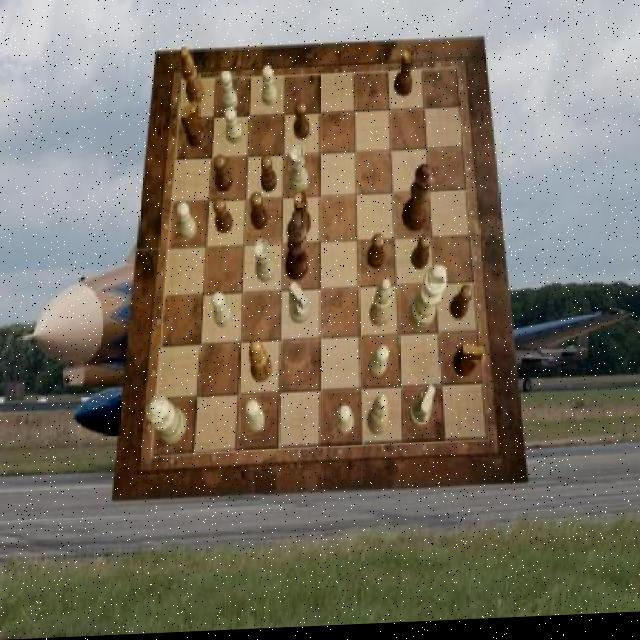bishop: (180, 48, 205, 107), (250, 341, 272, 385)
black-bishop: (284, 214, 308, 286)
black-king: (182, 102, 206, 150), (454, 348, 486, 383)
black-knight: (451, 288, 474, 324), (411, 237, 431, 274), (214, 200, 234, 237), (214, 157, 233, 195), (250, 194, 268, 232), (260, 157, 277, 195), (368, 236, 385, 273), (294, 103, 310, 142)
black-pawn: (402, 168, 434, 237)
black-queen: (394, 52, 416, 102), (292, 192, 312, 239)
black-rook: (370, 284, 392, 332), (366, 399, 389, 440)
white-bishop: (409, 269, 447, 334)
white-king: (409, 388, 436, 431), (289, 283, 312, 326)
white-knight: (177, 202, 197, 241), (212, 293, 232, 330), (220, 72, 238, 112), (246, 401, 266, 436), (369, 348, 390, 381), (262, 67, 278, 109), (225, 110, 242, 147), (335, 408, 353, 439)
white-pawn: (146, 395, 187, 447)
white-queen: (253, 241, 274, 286), (289, 149, 309, 196)
